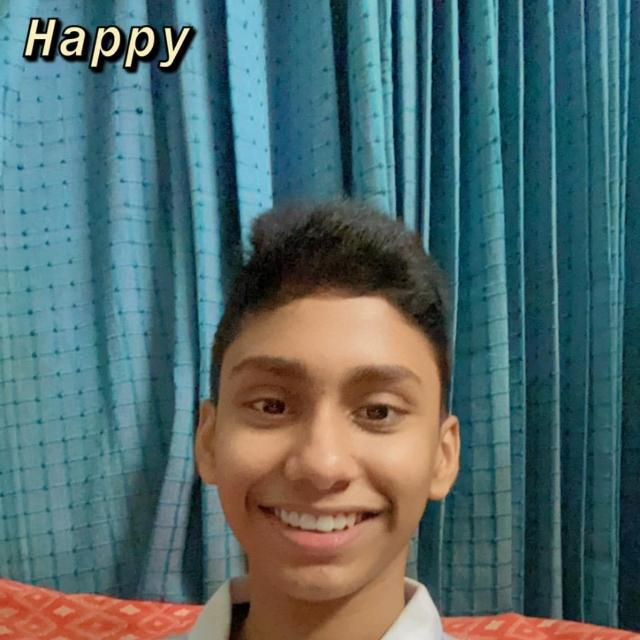Happy: (138, 223, 557, 640)
